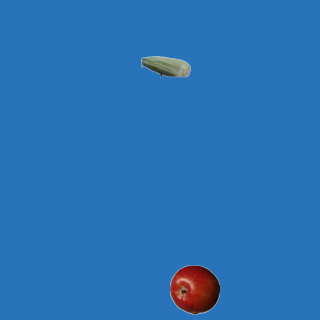Apple Braeburn: (169, 264, 219, 314)
Corn Husk: (140, 41, 190, 91)
